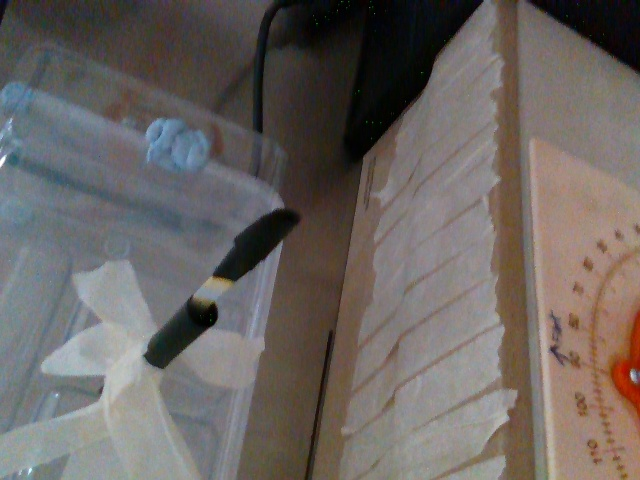test_strip: (190, 209, 297, 307)
